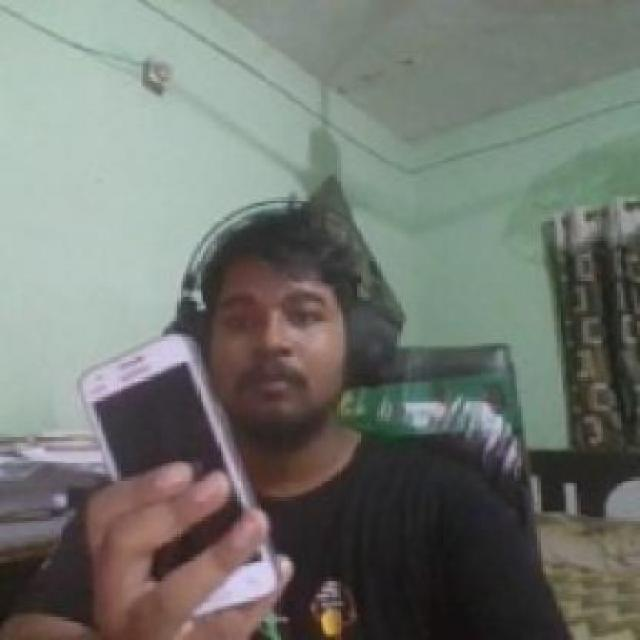Phone: (79, 332, 278, 612)
